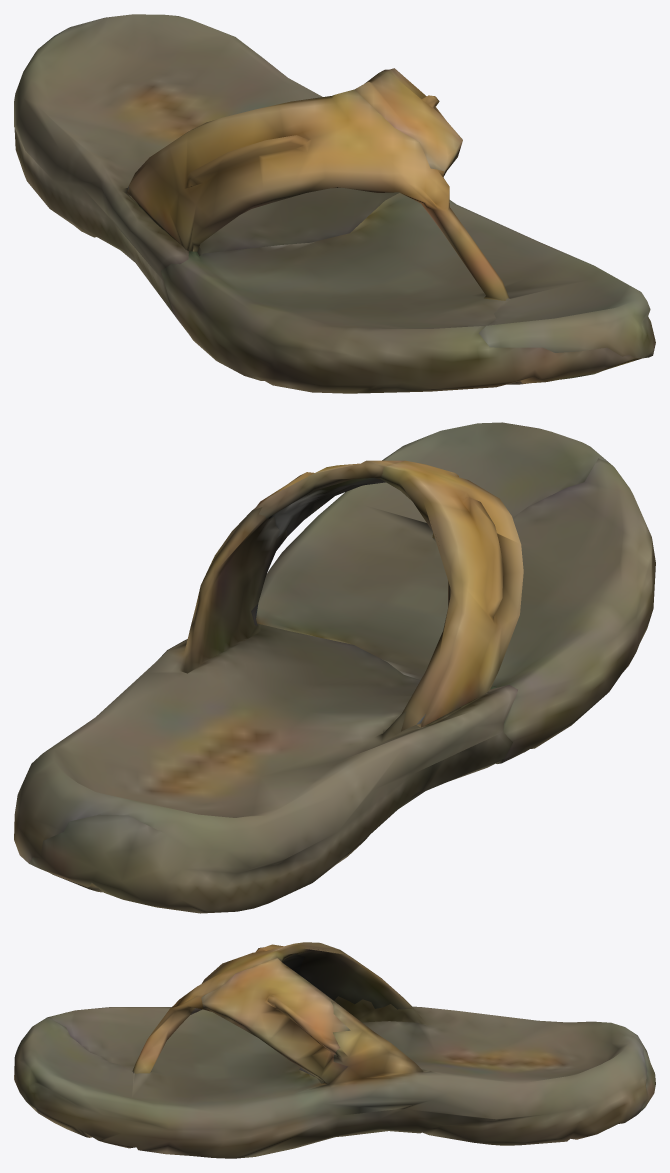
File: Womens_Suede_Bahama_in_Graphite_Suede_p1KUwoWbw7R-medium.glb
3 views of the same model, one above another, from view 1: azimuth 30°, elevation 25°; view 2: azimuth 150°, elevation 25°; view 3: azimuth 270°, elevation 25° (orthographic). The views are drawn at different scales.
Visible parts, largest first — view 1: Womens_Suede_Bahama_in_Graphite_Suede_p1KUwoWbw7R; view 2: Womens_Suede_Bahama_in_Graphite_Suede_p1KUwoWbw7R; view 3: Womens_Suede_Bahama_in_Graphite_Suede_p1KUwoWbw7R.
Part boxes in pixels (bbox=[...]): Womens_Suede_Bahama_in_Graphite_Suede_p1KUwoWbw7R: bbox=[14, 14, 655, 393]; Womens_Suede_Bahama_in_Graphite_Suede_p1KUwoWbw7R: bbox=[14, 422, 655, 913]; Womens_Suede_Bahama_in_Graphite_Suede_p1KUwoWbw7R: bbox=[14, 942, 655, 1158].
Bounding box in the file's own units: 0.1184 × 0.0796 × 0.2941.
1 material, 1 textured.
